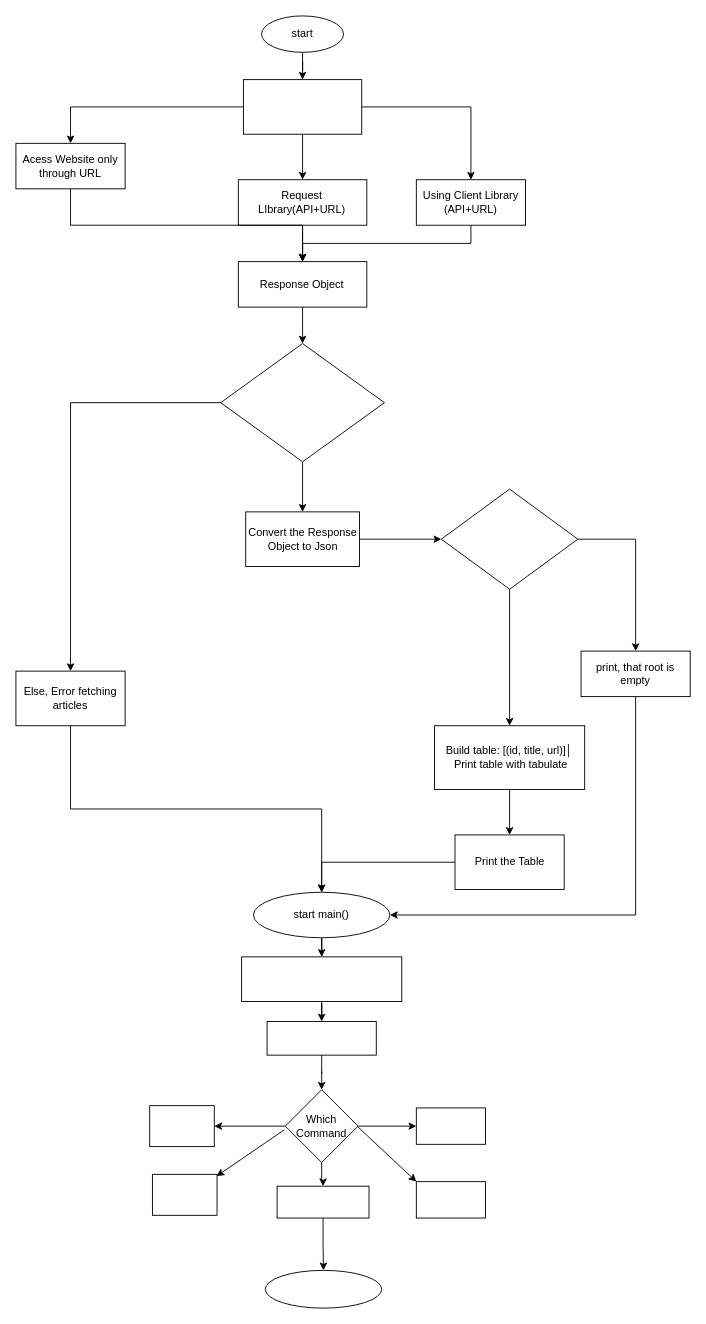
Image size: 706x1324. Some labels were removed from this diagram. Each missing label, with the centre of its shape:
"End" belongs at point 323,1288.
"Fetch API & URL" belongs at point 302,106.
"if route is empty" belongs at point 509,538.
"if status_code ==200 ☑️" belongs at point 302,402.
"Parse Arguments" belongs at point 321,1038.
"Setup argparser parser (command, --apikey)" belongs at point 321,978.
